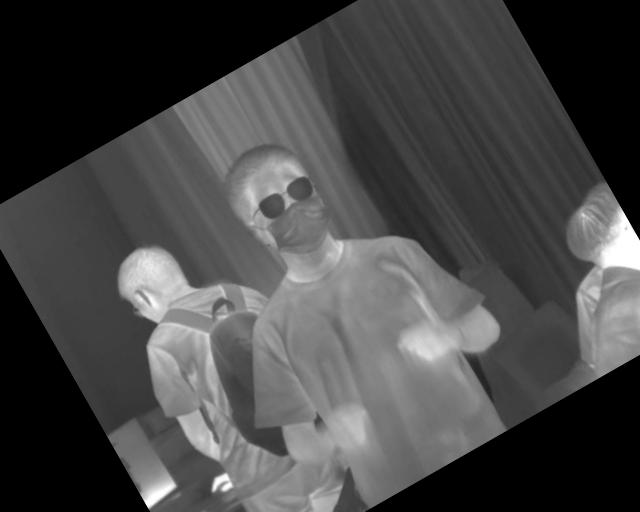face: (209, 127, 346, 276)
